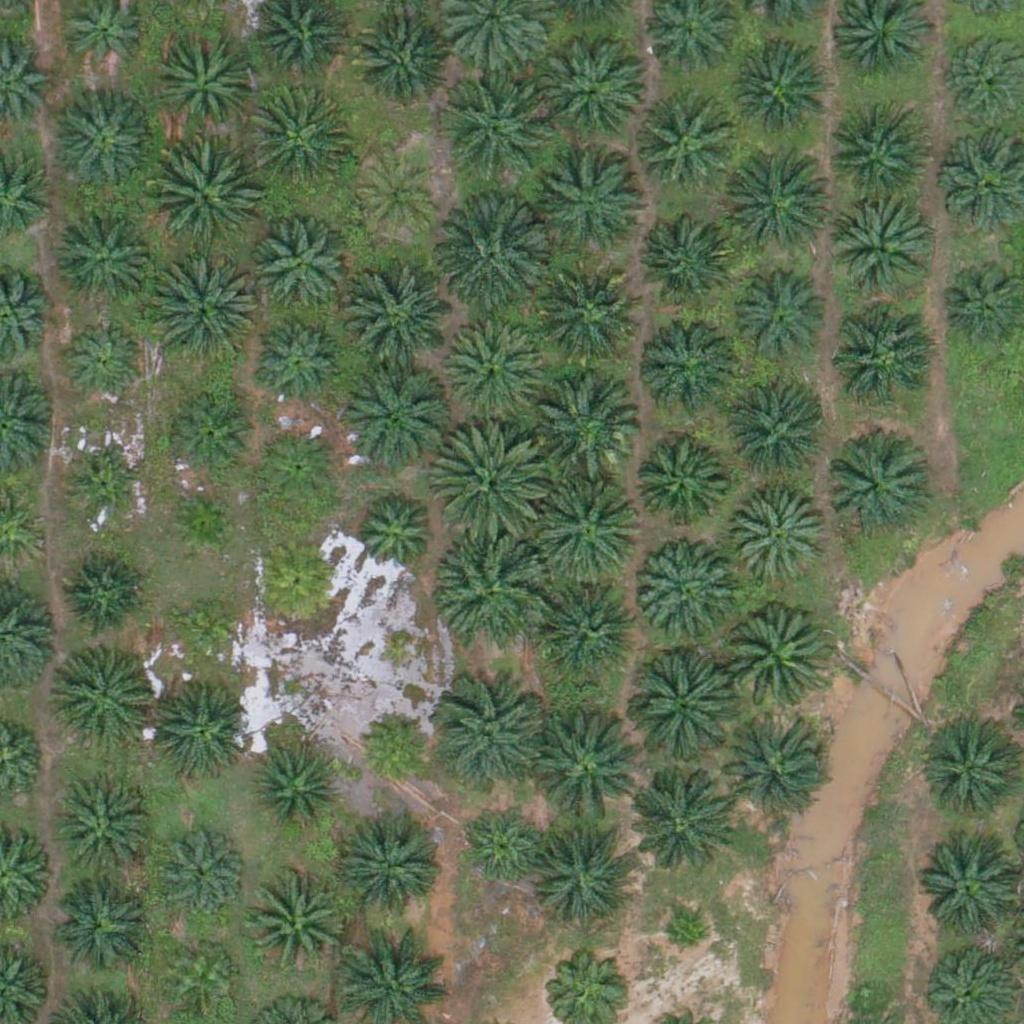Kelapa_Sawit: (435, 74, 548, 188), (623, 650, 736, 763), (620, 767, 733, 880), (438, 531, 551, 644), (435, 679, 548, 792), (528, 367, 641, 480), (435, 200, 548, 313), (145, 253, 258, 366), (146, 141, 259, 254), (527, 709, 639, 823), (531, 468, 643, 582), (433, 420, 545, 534), (719, 602, 831, 715), (716, 710, 828, 823), (532, 819, 644, 932), (723, 145, 835, 258), (244, 83, 356, 196), (342, 266, 454, 379), (337, 359, 449, 472), (55, 783, 155, 884), (53, 874, 153, 975), (146, 681, 246, 782), (245, 874, 345, 975), (342, 813, 442, 914), (920, 841, 1020, 942), (823, 439, 923, 540), (730, 488, 830, 589), (628, 433, 728, 534), (635, 541, 735, 642), (826, 197, 926, 298), (826, 109, 926, 210), (730, 41, 830, 142), (444, 321, 544, 422), (249, 215, 349, 316), (153, 34, 253, 135), (51, 94, 151, 195), (53, 207, 153, 308), (52, 645, 152, 745), (728, 390, 828, 490), (542, 579, 642, 679), (832, 307, 932, 407), (728, 266, 828, 366), (640, 311, 740, 411), (632, 91, 732, 191), (637, 207, 737, 307), (543, 40, 643, 140), (543, 157, 643, 257), (535, 270, 635, 370), (345, 10, 445, 110), (253, 535, 341, 624), (459, 805, 547, 893), (253, 422, 341, 510), (354, 153, 442, 241), (58, 320, 146, 408), (255, 318, 342, 407), (60, 549, 147, 637), (158, 826, 245, 914), (252, 746, 339, 834), (349, 490, 436, 578), (164, 392, 251, 480), (356, 707, 431, 783), (164, 484, 239, 560), (168, 592, 243, 668), (70, 455, 145, 530), (165, 940, 240, 1015), (661, 913, 711, 963)
